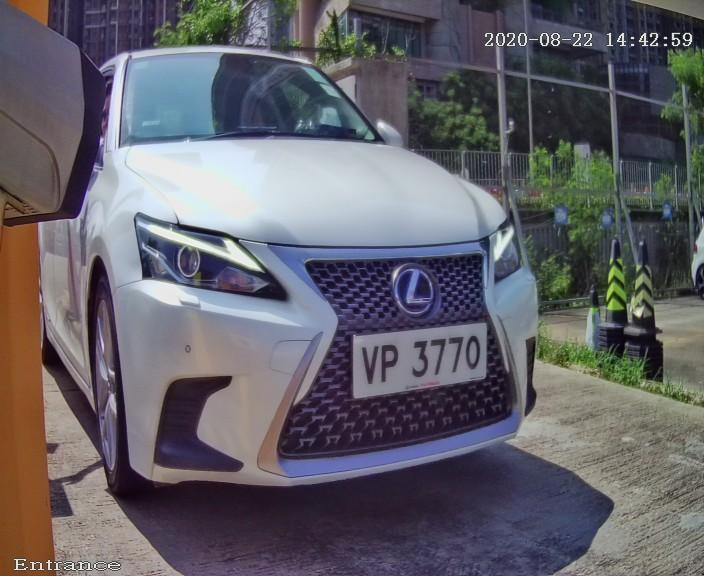Car: (32, 11, 588, 541)
License Plate: (326, 303, 510, 417)
